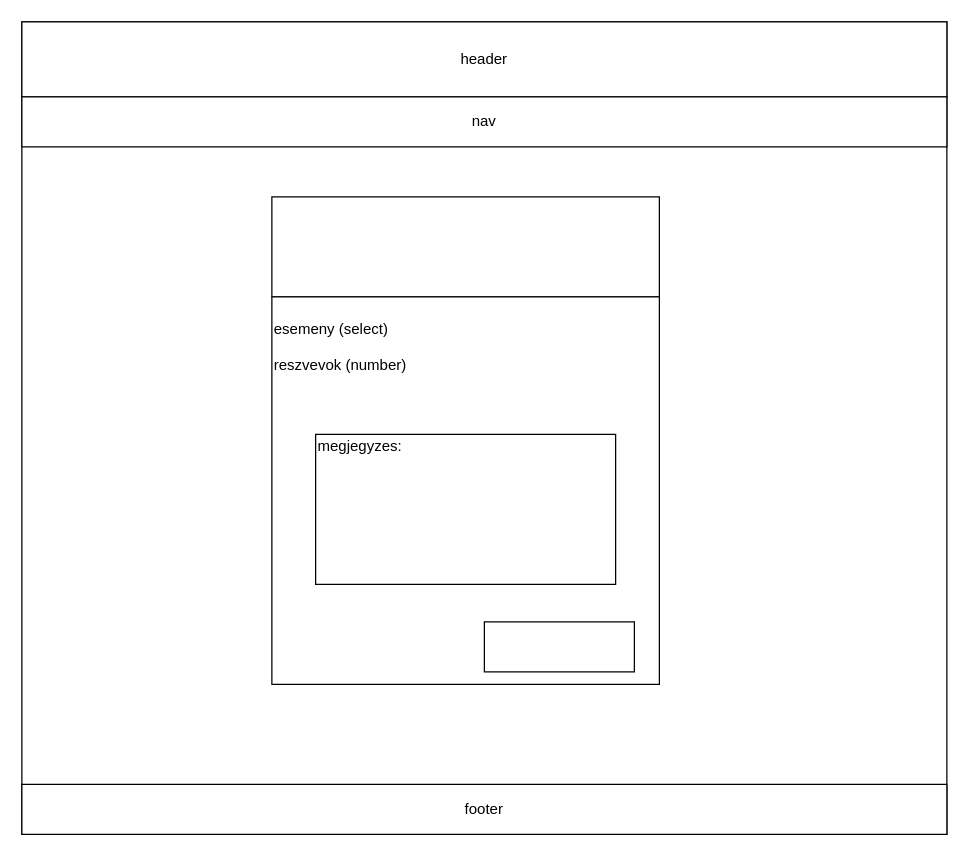
Some shapes in this 969 by 856 pixel diagram are drawn without their labels. The box of each missing label's shape, as (x1, y1, x2, y2) in pixels:
kuldes: (483, 621, 634, 672)
név * : email * :: (271, 196, 659, 297)
